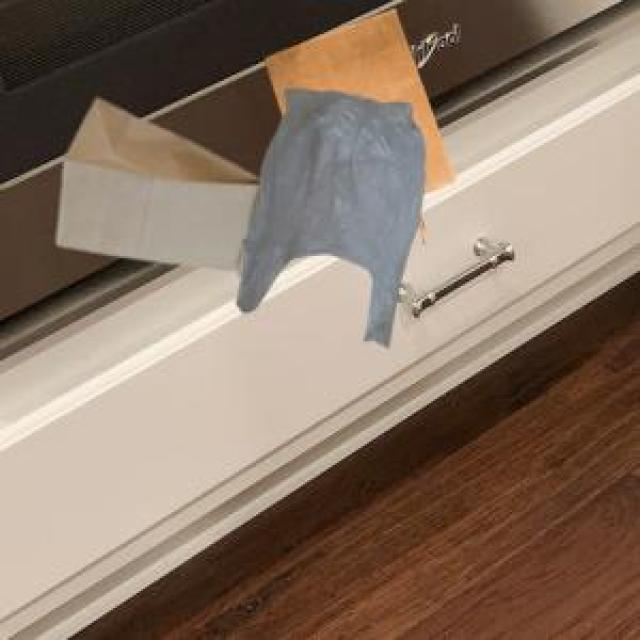paper: (53, 94, 256, 273), (262, 4, 450, 190)
